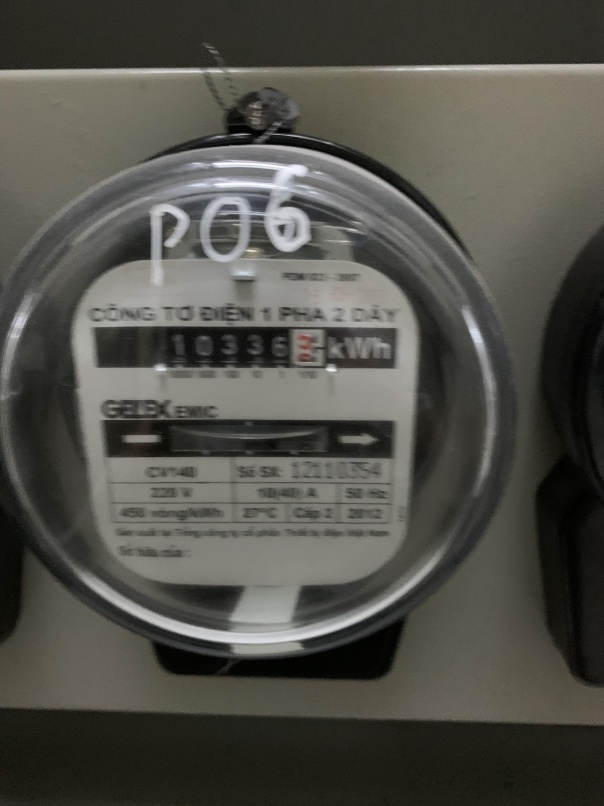counter: (93, 323, 401, 371)
electricity_meter: (3, 153, 518, 653)
